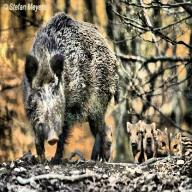boar: (18, 2, 120, 166), (99, 120, 121, 164), (170, 126, 191, 165), (126, 119, 142, 163), (142, 120, 156, 161), (158, 126, 170, 166)
